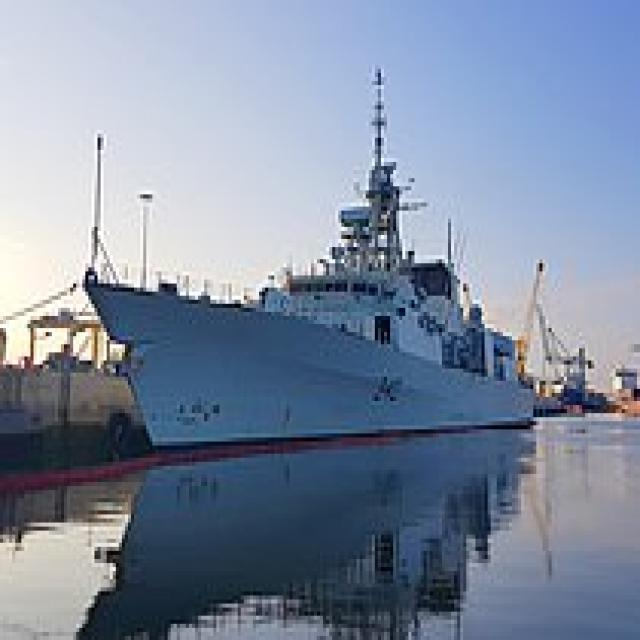Warship: (76, 61, 552, 450)
